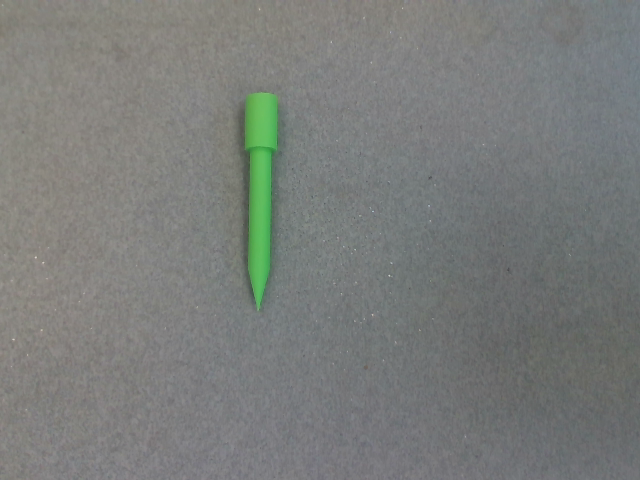Probe: (237, 88, 282, 316)
